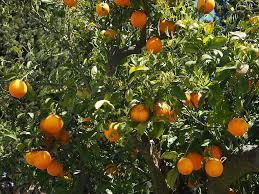orange: (22, 148, 64, 183), (172, 145, 217, 173), (42, 106, 69, 134), (130, 102, 153, 124), (147, 35, 171, 55), (230, 118, 249, 143), (193, 0, 221, 14)
